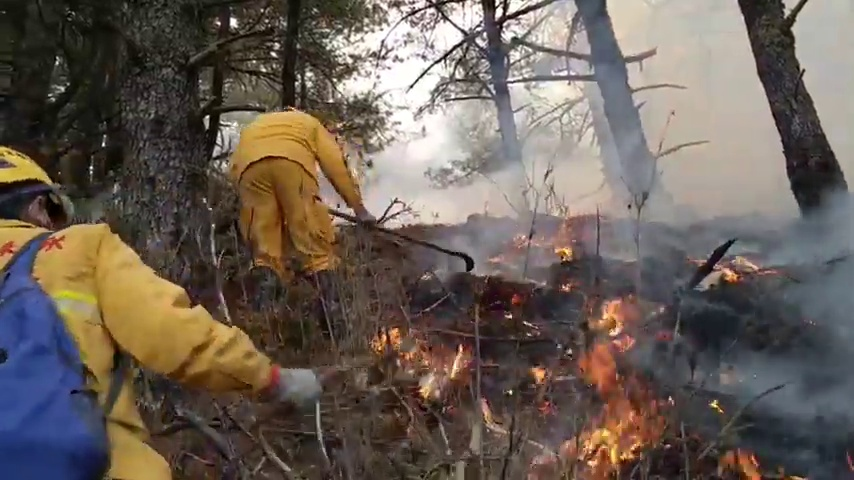fire: (370, 329, 463, 399), (577, 413, 641, 463), (602, 295, 625, 330), (555, 243, 575, 260), (725, 267, 738, 284)
